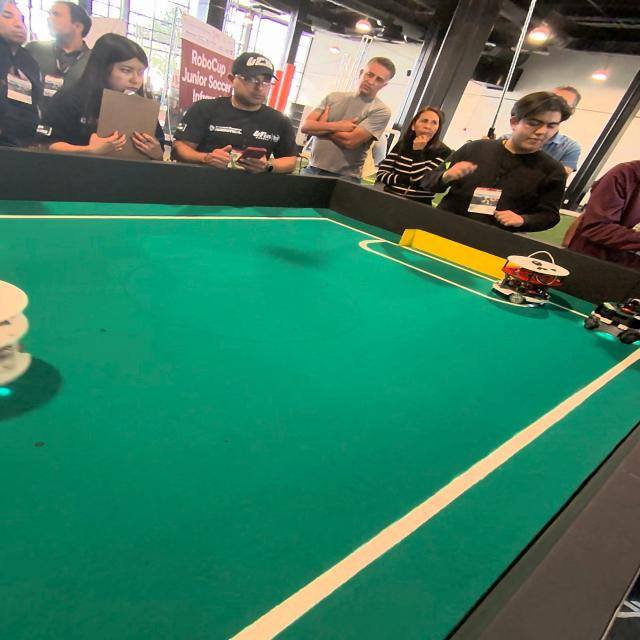Robot: (0, 256, 62, 424), (491, 251, 559, 313), (586, 297, 640, 353)
